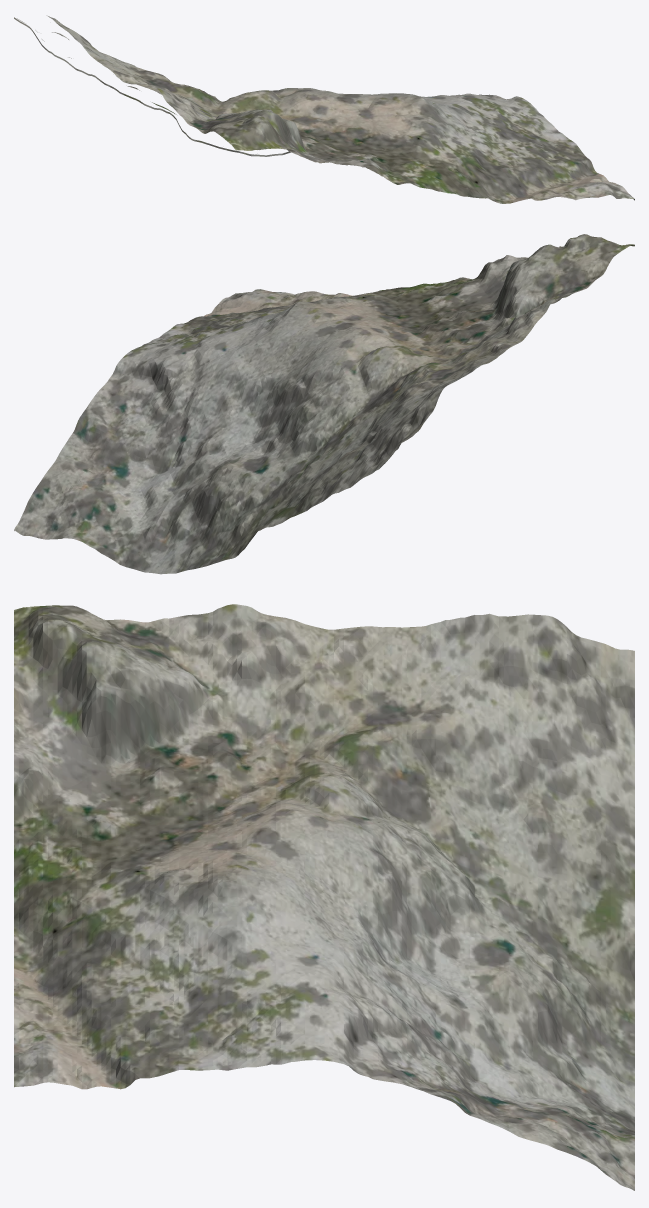
3 views of the same model, one above another, from view 1: azimuth 30°, elevation 25°; view 2: azimuth 150°, elevation 25°; view 3: azimuth 270°, elevation 25° (orthographic). The views are drawn at different scales.
Bounding box in the file's own units: 250 × 145 × 241.
1 material, 1 textured.
